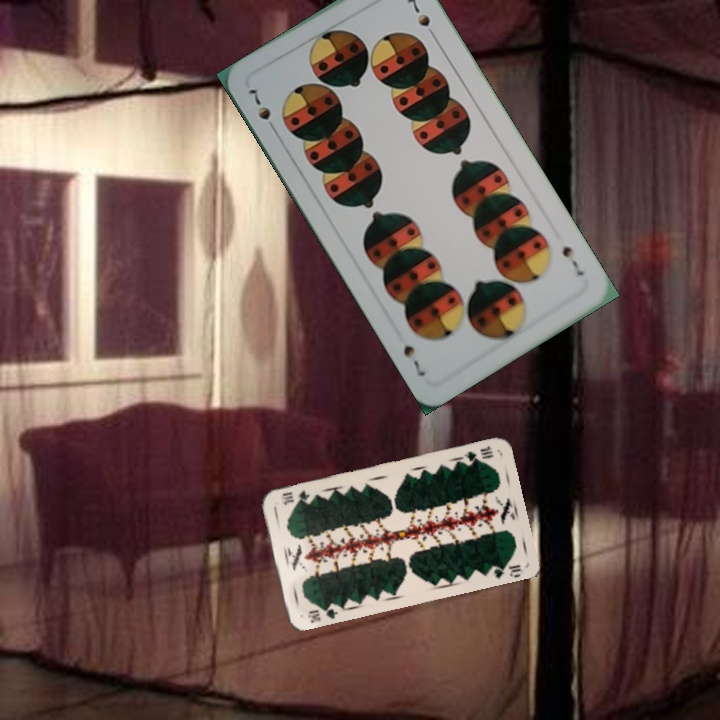G10: (304, 601, 341, 626), (457, 441, 496, 464)
S7: (244, 82, 280, 136), (558, 242, 586, 279)
